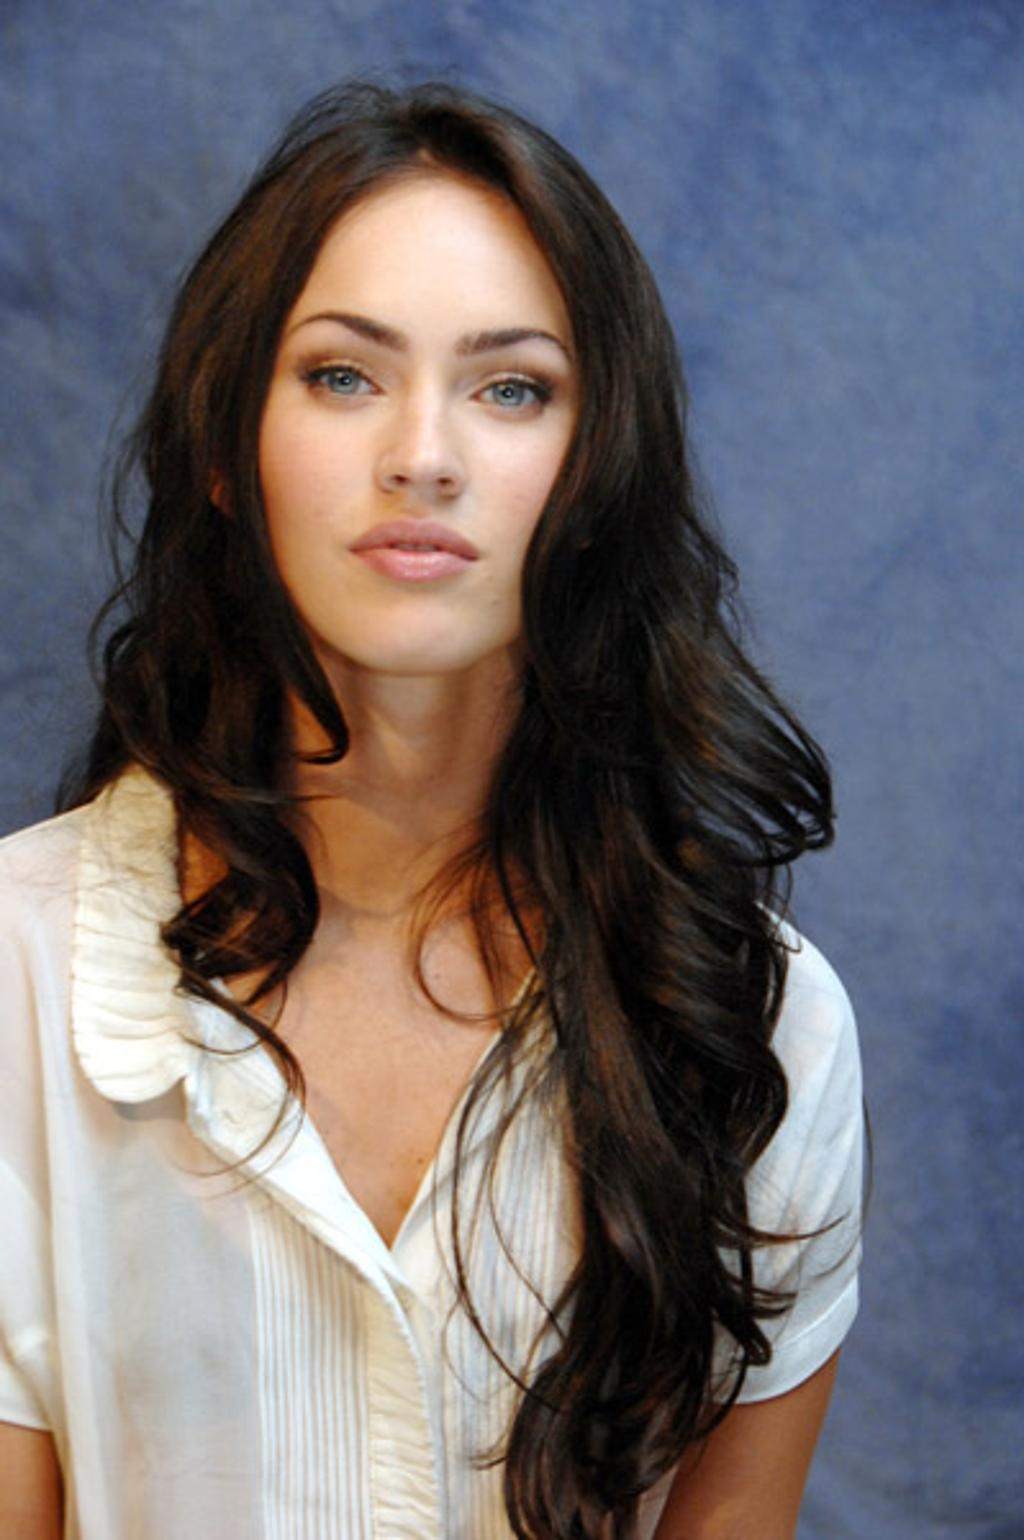face: (248, 179, 612, 670)
